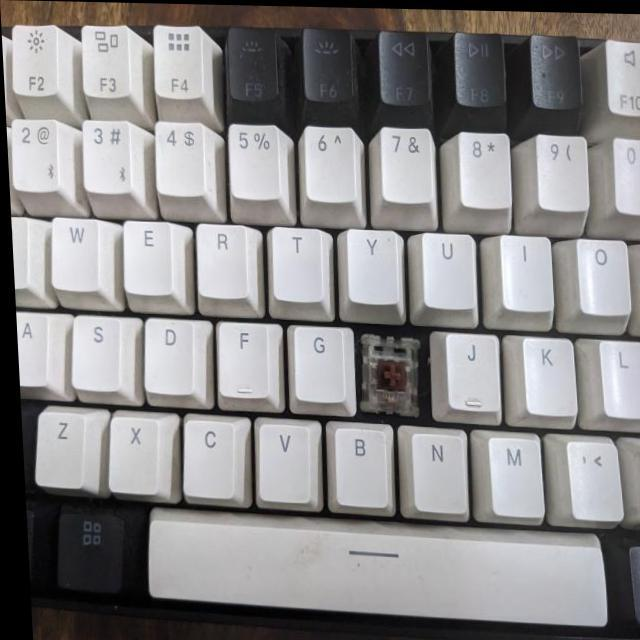key-switch: (354, 325, 428, 420)
